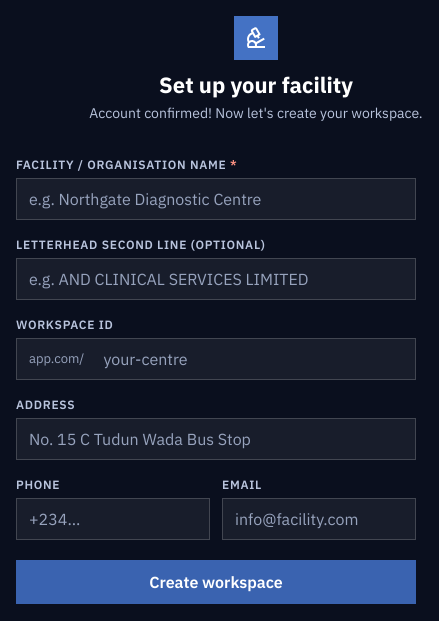
Onboarding — manual facility form › derives the workspace id from the facility name
Type "Northgate Diagnostics" into the field labelled "Facility / organisation name *".
click(216, 199); type("Northgate Diagnostics")  # box [16,178,416,220]
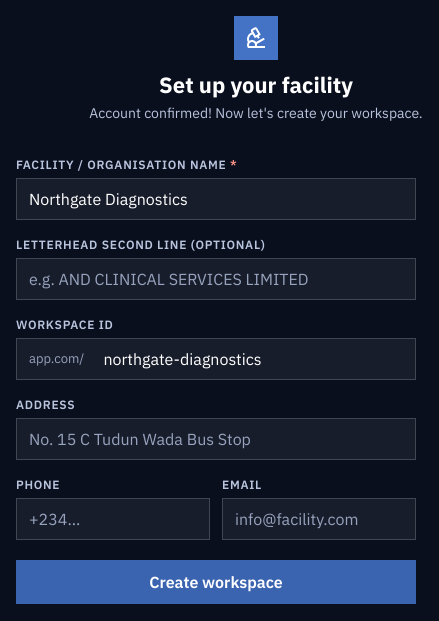
Expected: the field labelled "Workspace ID" holds "northgate-diagnostics", [16,338,416,380]
